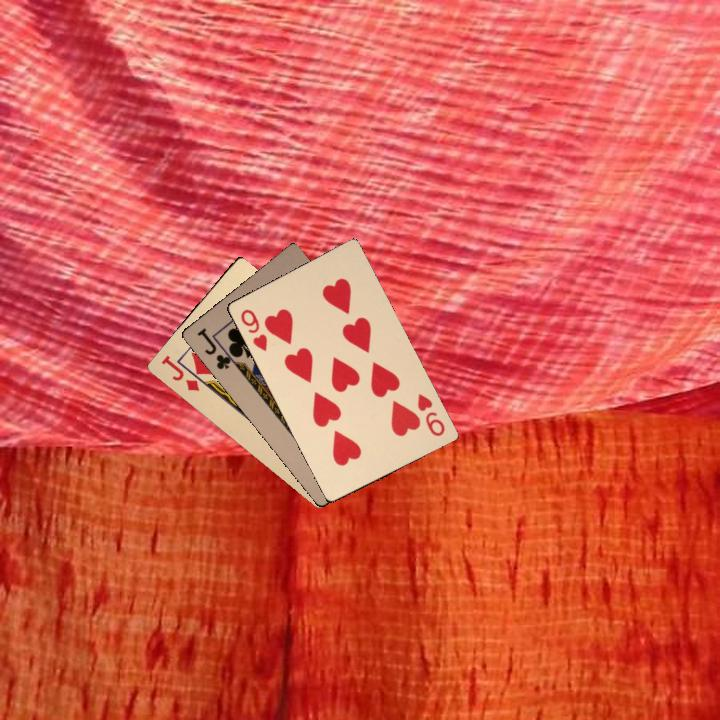9h: (413, 389, 447, 439), (236, 305, 270, 354)
Jc: (193, 324, 239, 372)
Jd: (157, 351, 210, 394)
